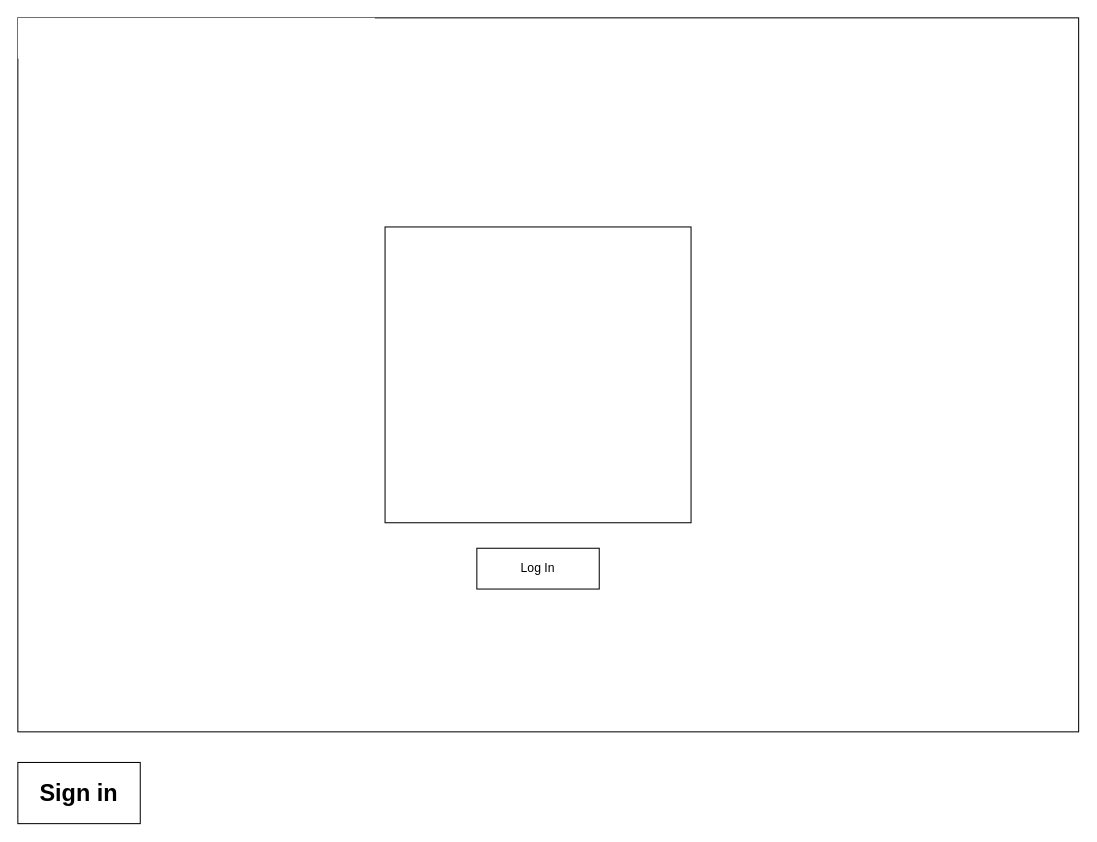
This 1097x842 diagram has some shape labels left out. The centre of each missing label's shape, as x and y in pixels:
"Parking Lot Manager" goes at point 195,37.
"username password" goes at point 537,374.
